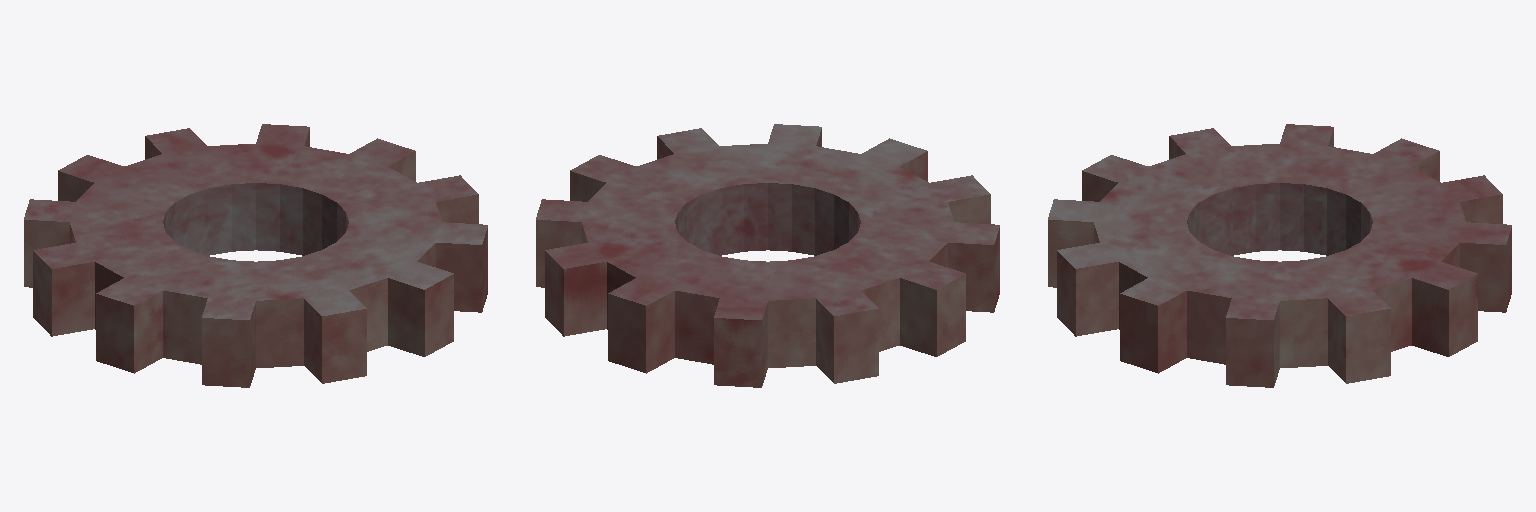
The picture shows the model from 3 angles: view 1: azimuth 30°, elevation 25°; view 2: azimuth 150°, elevation 25°; view 3: azimuth 270°, elevation 25°; orthographic projection.
Parts seen in each view (by area): view 1: 歯車; view 2: 歯車; view 3: 歯車.
Part boxes in pixels (left/top/right/bottom): 歯車: left=24, top=124, right=487, bottom=387; 歯車: left=536, top=124, right=999, bottom=387; 歯車: left=1048, top=124, right=1511, bottom=387.
Size of the model in its own units: 2.5 by 0.4 by 2.5.
1 materials, 1 textured.